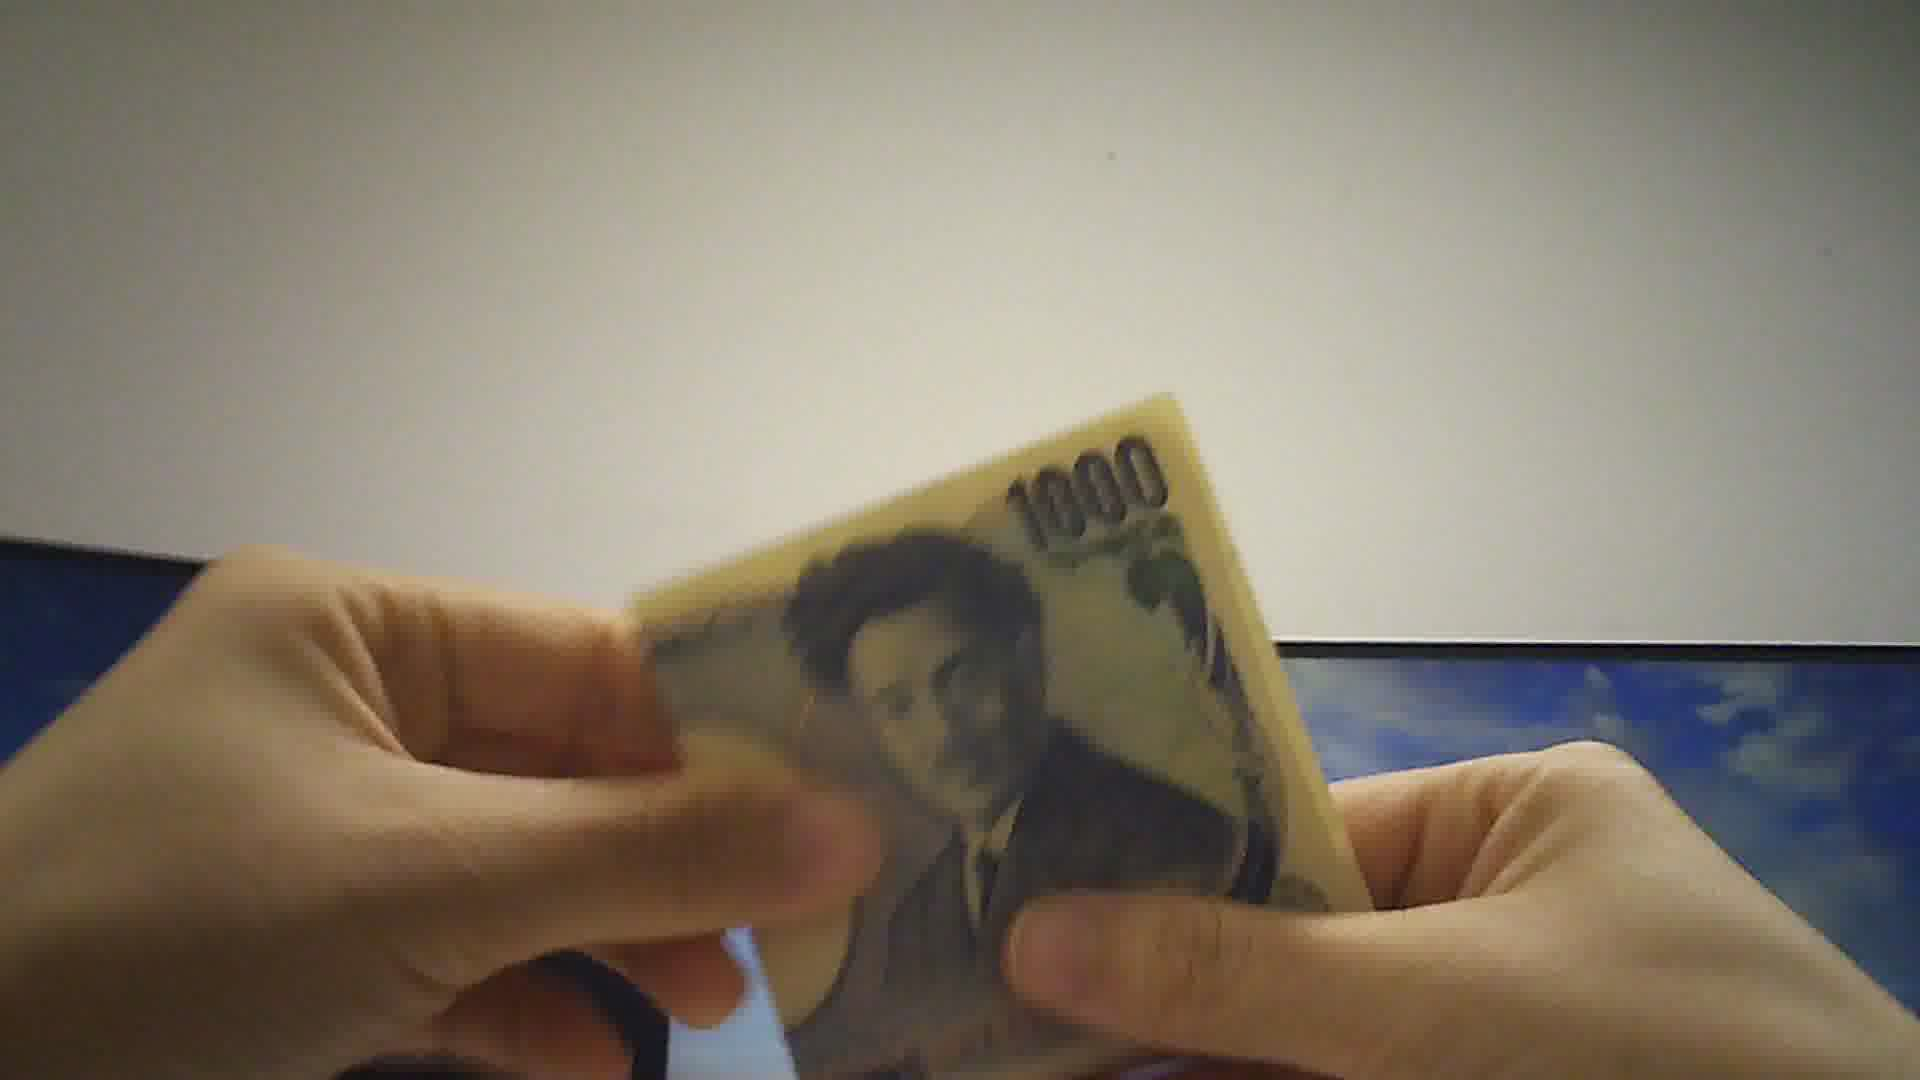1,000 Yen: (621, 392, 1379, 1079)
